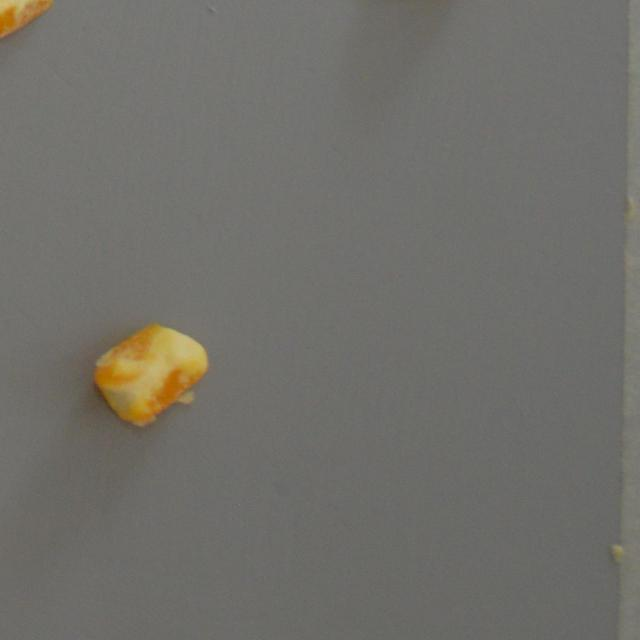pelicula: (90, 318, 208, 432), (0, 0, 52, 42)
